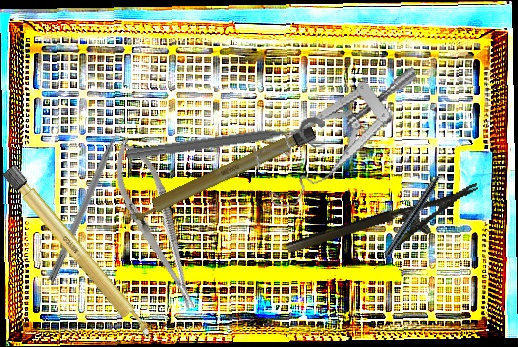Fixation Ring: (124, 116, 329, 176)
Handpiece: (372, 173, 442, 273)
Needle Holder: (101, 132, 211, 318), (285, 183, 488, 279)
Pusher: (47, 112, 131, 284)
Scalpel Handle: (1, 164, 156, 343), (124, 123, 317, 226)
Speculum: (242, 66, 441, 213)
